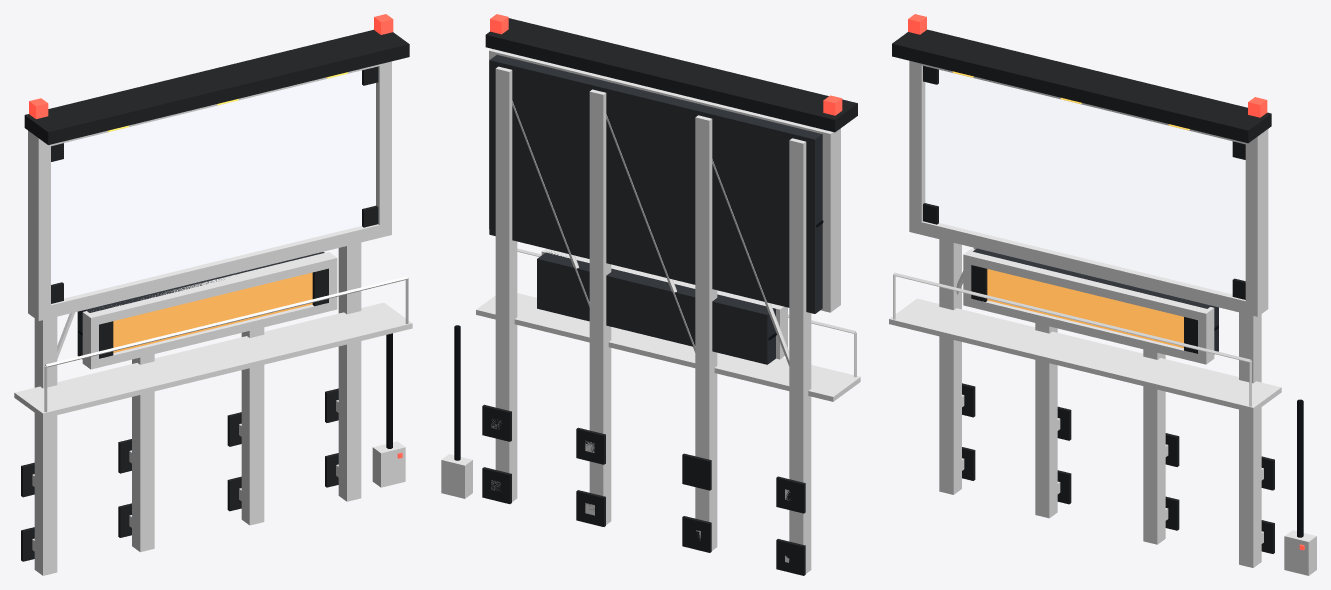
The model's file is corp_crown.gltf.
The picture shows the model from 3 angles, left to right: view 1: azimuth 30°, elevation 25°; view 2: azimuth 150°, elevation 25°; view 3: azimuth 330°, elevation 25°; orthographic projection. The views are drawn at different scales.
Visible parts, largest first — view 1: steel, face, graphite, info, detail_graphite, detail_steel, olive, panel, dark, red; view 2: panel, steel, graphite, detail_steel, olive, dark, red; view 3: steel, face, graphite, info, detail_graphite, detail_steel, panel, olive, dark, red.
Part boxes in pixels (x1,y1,x2,y2): steel: [14, 61, 412, 575]; face: [51, 70, 375, 298]; graphite: [21, 29, 409, 561]; info: [113, 272, 312, 352]; detail_graphite: [51, 66, 378, 358]; detail_steel: [44, 276, 408, 412]; olive: [372, 441, 405, 487]; panel: [77, 252, 324, 359]; dark: [386, 333, 392, 448]; red: [29, 14, 393, 118]; panel: [489, 55, 822, 364]; steel: [476, 49, 860, 573]; graphite: [482, 18, 857, 575]; detail_steel: [512, 101, 856, 377]; olive: [441, 454, 472, 498]; dark: [454, 325, 460, 460]; red: [490, 14, 842, 115]; steel: [889, 60, 1281, 567]; face: [925, 69, 1245, 294]; graphite: [892, 29, 1274, 553]; info: [987, 269, 1183, 348]; detail_graphite: [923, 66, 1245, 353]; detail_steel: [893, 247, 1251, 406]; panel: [973, 248, 1218, 354]; olive: [1284, 530, 1316, 575]; dark: [1297, 399, 1303, 537]; red: [908, 14, 1267, 117].
Size of the model in its own units: 9.6 by 11.25 by 1.75.
